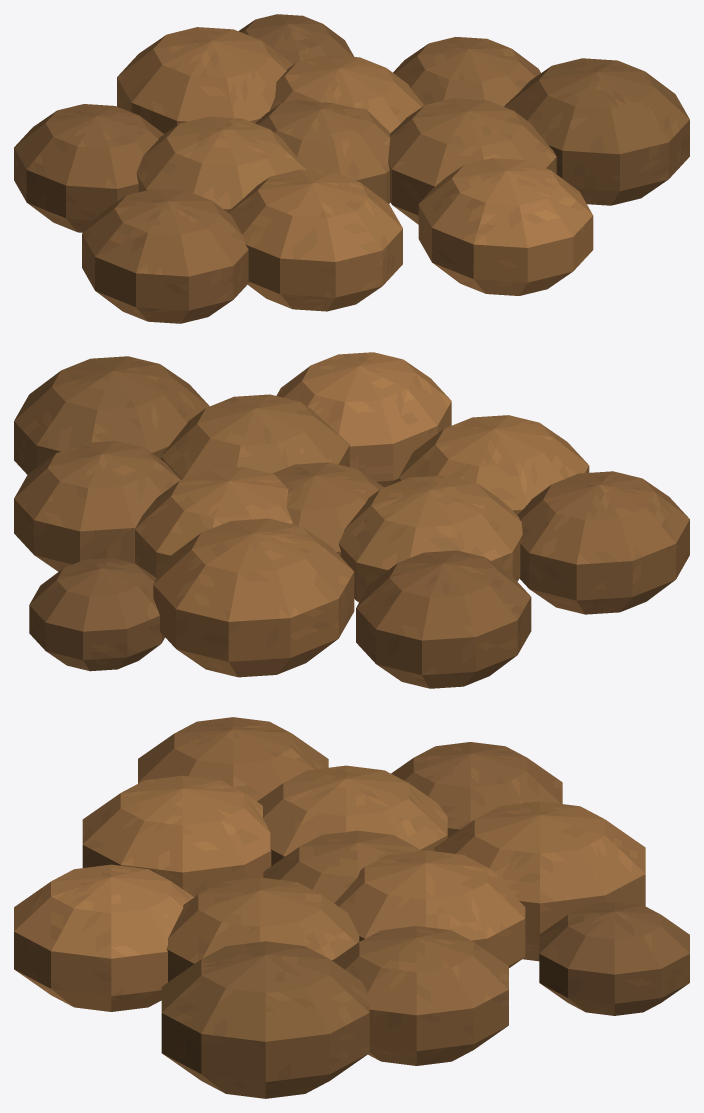
Rendered from almond_shelled.glb.
3 renders of one model, top to bottom at view 1: azimuth 30°, elevation 25°; view 2: azimuth 150°, elevation 25°; view 3: azimuth 270°, elevation 25°, orthographic. The views are drawn at different scales.
Parts seen in each view (by area): view 1: block_grain 8, block_grain 5, block_grain 11, block_grain 10, block_grain 4, block_grain 7, block_grain 3, block_grain 2, block_grain 0, block_grain 6, block_grain 1, block_grain 9; view 2: block_grain 4, block_grain 10, block_grain 7, block_grain 6, block_grain 11, block_grain 2, block_grain 8, block_grain 9, block_grain 3, block_grain 5, block_grain 1, block_grain 0; view 3: block_grain 11, block_grain 8, block_grain 6, block_grain 4, block_grain 5, block_grain 9, block_grain 1, block_grain 2, block_grain 3, block_grain 10, block_grain 7, block_grain 0.
Boxes of the visible parts, x1,y1,x2,y2 form: block_grain 8: (418,158,593,295); block_grain 5: (228,169,402,311); block_grain 11: (504,58,689,205); block_grain 10: (82,188,249,323); block_grain 4: (117,27,292,133); block_grain 7: (14,104,163,232); block_grain 3: (388,98,556,224); block_grain 2: (136,116,308,212); block_grain 0: (255,100,390,203); block_grain 6: (393,37,540,106); block_grain 1: (270,55,423,132); block_grain 9: (238,14,354,64); block_grain 4: (153,518,354,677); block_grain 10: (517,471,689,614); block_grain 7: (356,550,531,688); block_grain 6: (14,441,181,571); block_grain 11: (14,356,209,474); block_grain 2: (338,475,522,602); block_grain 8: (276,352,451,487); block_grain 9: (29,558,164,671); block_grain 3: (161,394,349,479); block_grain 5: (398,415,589,515); block_grain 1: (135,467,292,577); block_grain 0: (272,462,384,556); block_grain 11: (161,941,369,1098); block_grain 8: (14,864,193,1011); block_grain 6: (332,926,508,1065); block_grain 4: (434,801,645,961); block_grain 5: (82,775,271,897); block_grain 9: (539,901,689,1015); block_grain 1: (334,850,525,967); block_grain 2: (257,765,447,865); block_grain 3: (166,877,359,982); block_grain 10: (138,717,328,801); block_grain 7: (391,742,562,837); block_grain 0: (263,830,420,903).
Bounding box in the file's own units: 0.0716 × 0.014 × 0.0646.
Materials: 1 (1 with a texture image).
